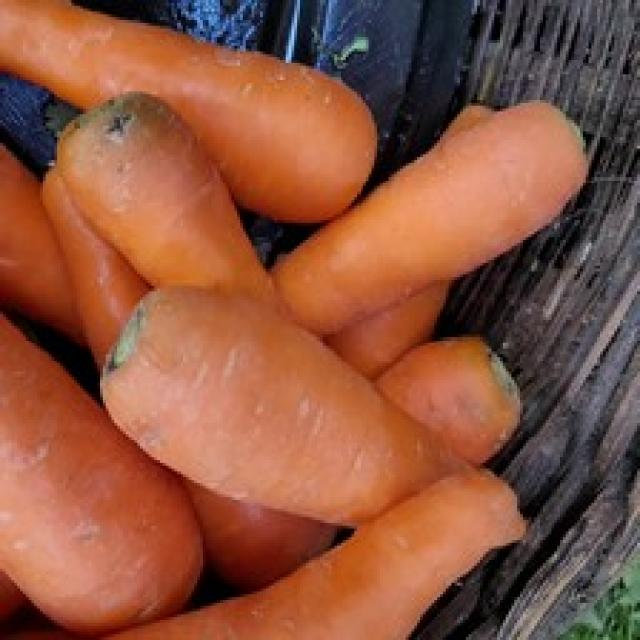Fresh_Carrot: (107, 289, 490, 541), (69, 104, 289, 315)
